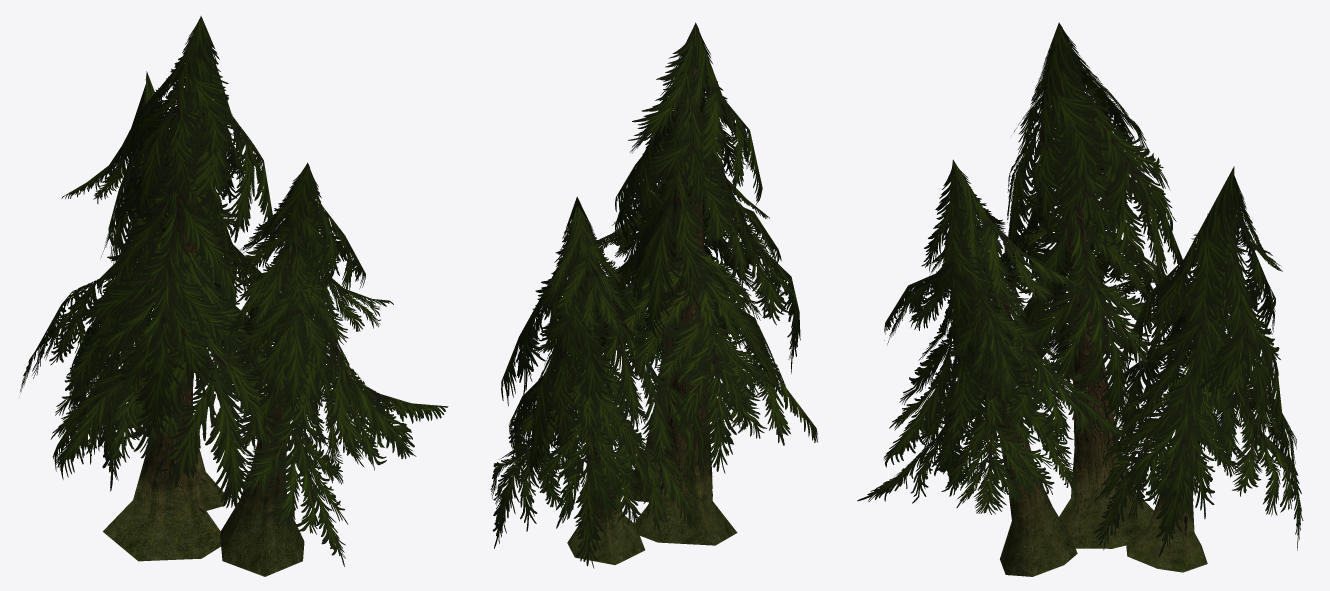
Rendered from spruce_07.fbx.
3 views of the same model, side by side, from view 1: azimuth 30°, elevation 25°; view 2: azimuth 150°, elevation 25°; view 3: azimuth 270°, elevation 25° (orthographic). The views are drawn at different scales.
Parts seen in each view (by area): view 1: Spruce_7_LOD0; view 2: Spruce_7_LOD0; view 3: Spruce_7_LOD0.
Boxes of the visible parts, x1=… form: Spruce_7_LOD0: x1=20, y1=16, x2=448, y2=576; Spruce_7_LOD0: x1=490, y1=22, x2=818, y2=568; Spruce_7_LOD0: x1=857, y1=22, x2=1303, y2=576.
Size of what is drawn, in the model's own units: 3.17 by 4.53 by 3.58.
